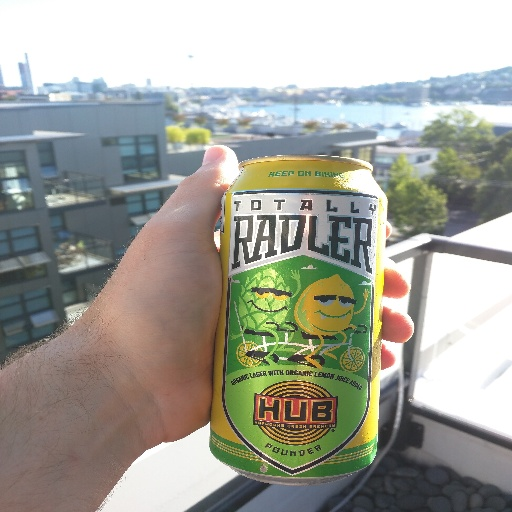hand: (0, 138, 470, 484)
